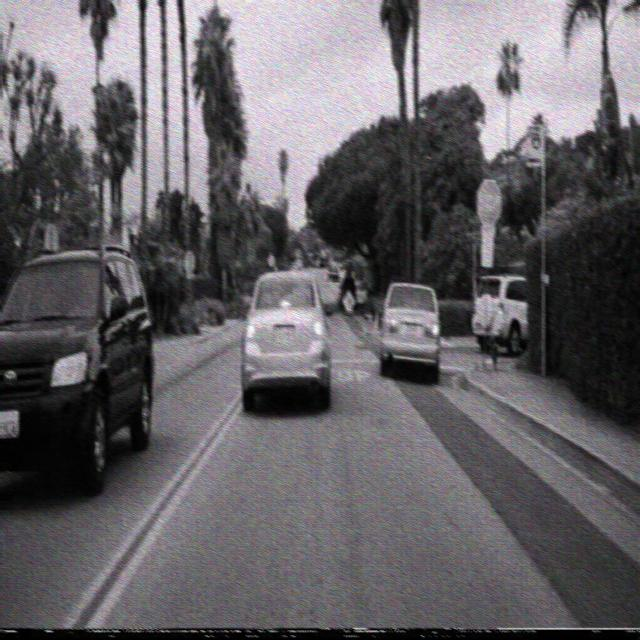stop: (475, 176, 501, 227)
